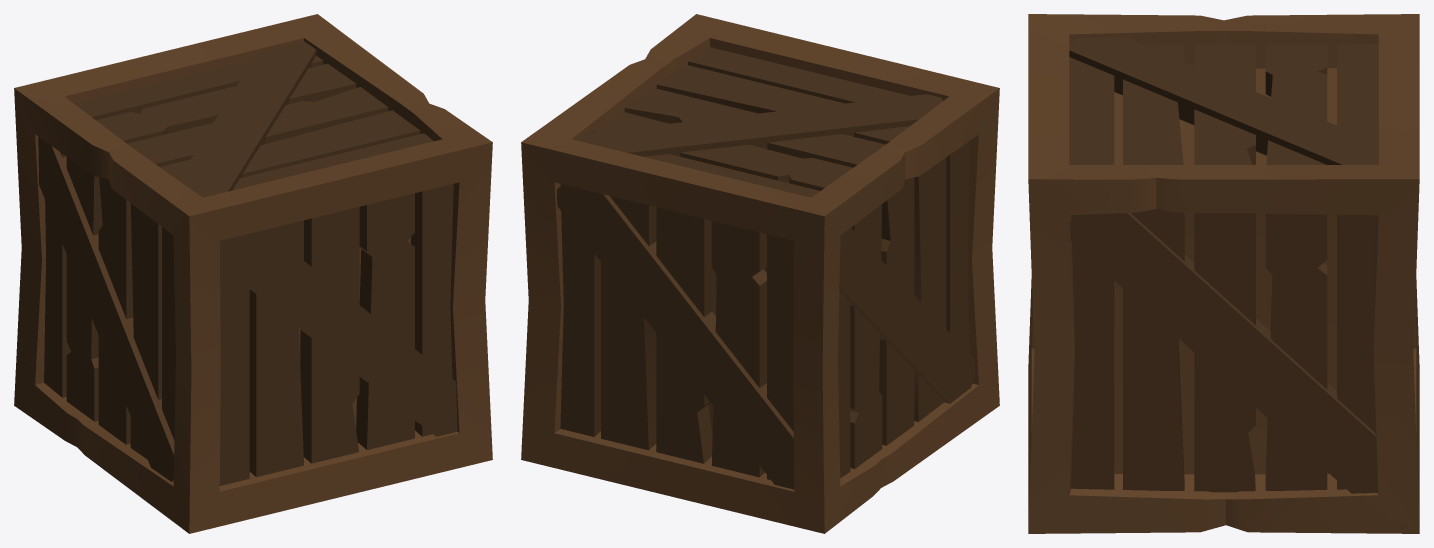
The model's file is crate.glb.
3 renders of one model, left to right at view 1: azimuth 30°, elevation 25°; view 2: azimuth 150°, elevation 25°; view 3: azimuth 270°, elevation 25°, orthographic. The views are drawn at different scales.
Visible parts, largest first — view 1: Crate; view 2: Crate; view 3: Crate.
Boxes of the visible parts, box(x1,y1,x2,y2) form: Crate: box(14, 14, 492, 533); Crate: box(521, 14, 999, 533); Crate: box(1028, 14, 1419, 533).
Size of the model in its own units: 0.1602 by 0.1602 by 0.1602.
